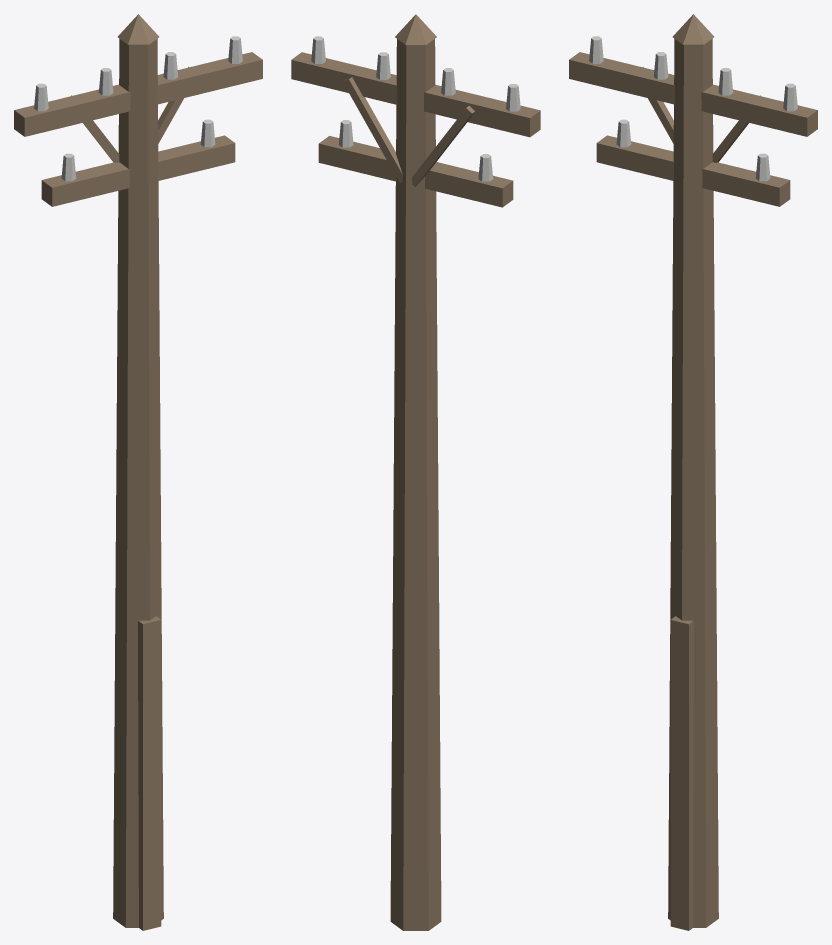
The model's file is rail_telegraph_pole.glb.
The picture shows the model from 3 angles, left to right: view 1: azimuth 30°, elevation 25°; view 2: azimuth 150°, elevation 25°; view 3: azimuth 330°, elevation 25°; orthographic projection.
Bounding box in the file's own units: 1.3 × 4.72 × 0.25.
